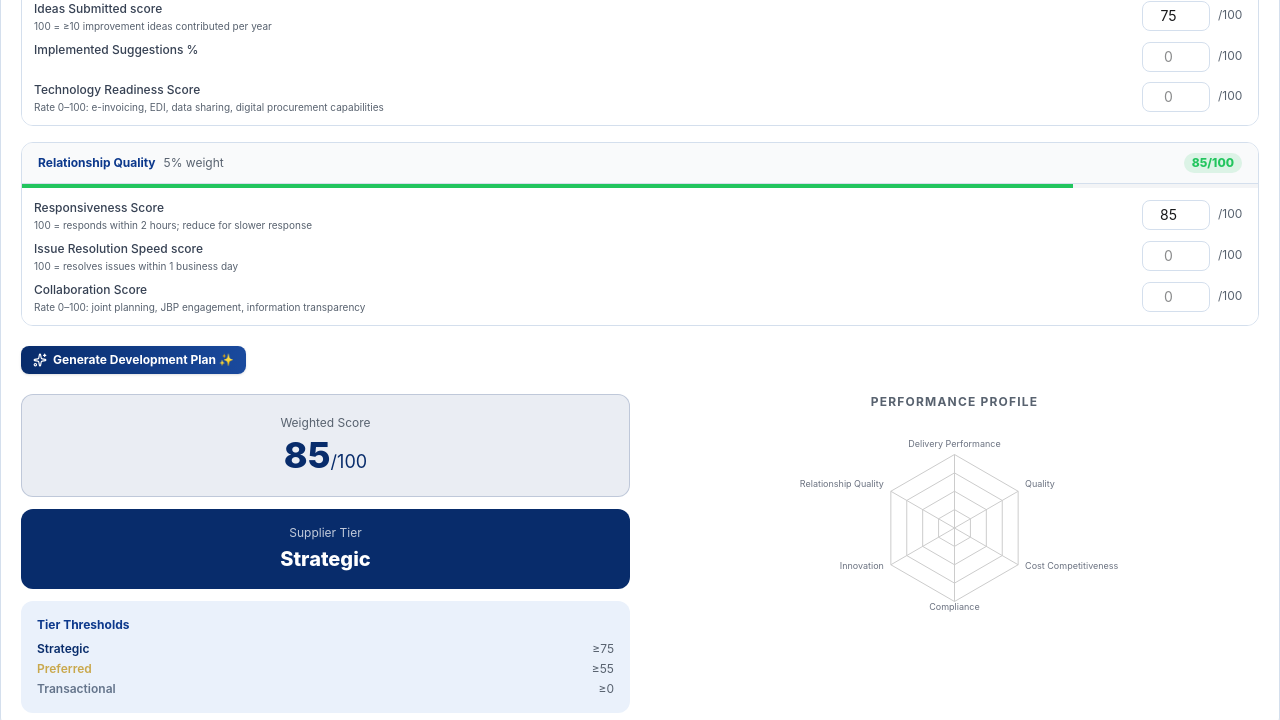
Test case: SupplierScorecardTool — in-progress plan is cancelled when switching suppliers (Task 363) › loading indicator disappears after switching to a different supplier
(page scrolled)
Start generating a plan — button click kicks off the pending fetch
Click the button "Generate Development Plan ✨".
click(133, 360)  # box [21,346,246,374]
(page scrolled)
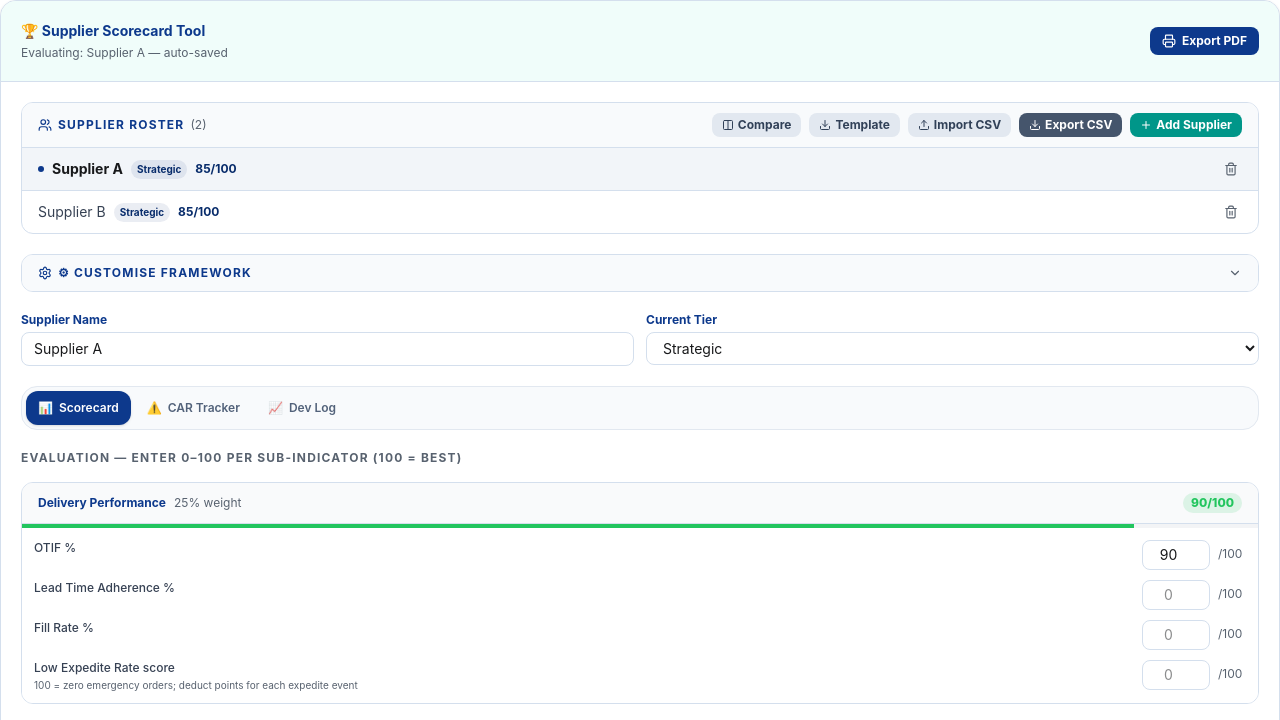
Click the text "Supplier B".
click(72, 212)  # box [38,202,106,222]
(page scrolled)
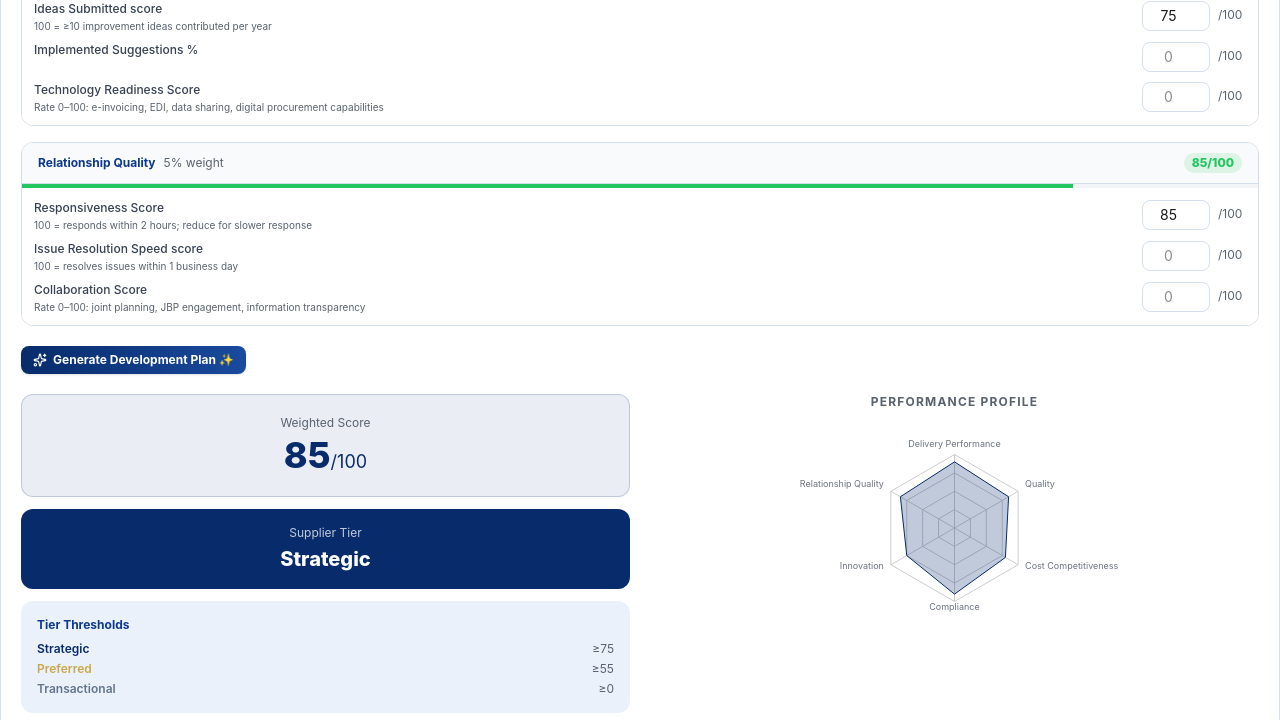
Expected: the button "Generate Development Plan ✨" is shown, [21,346,246,374]
